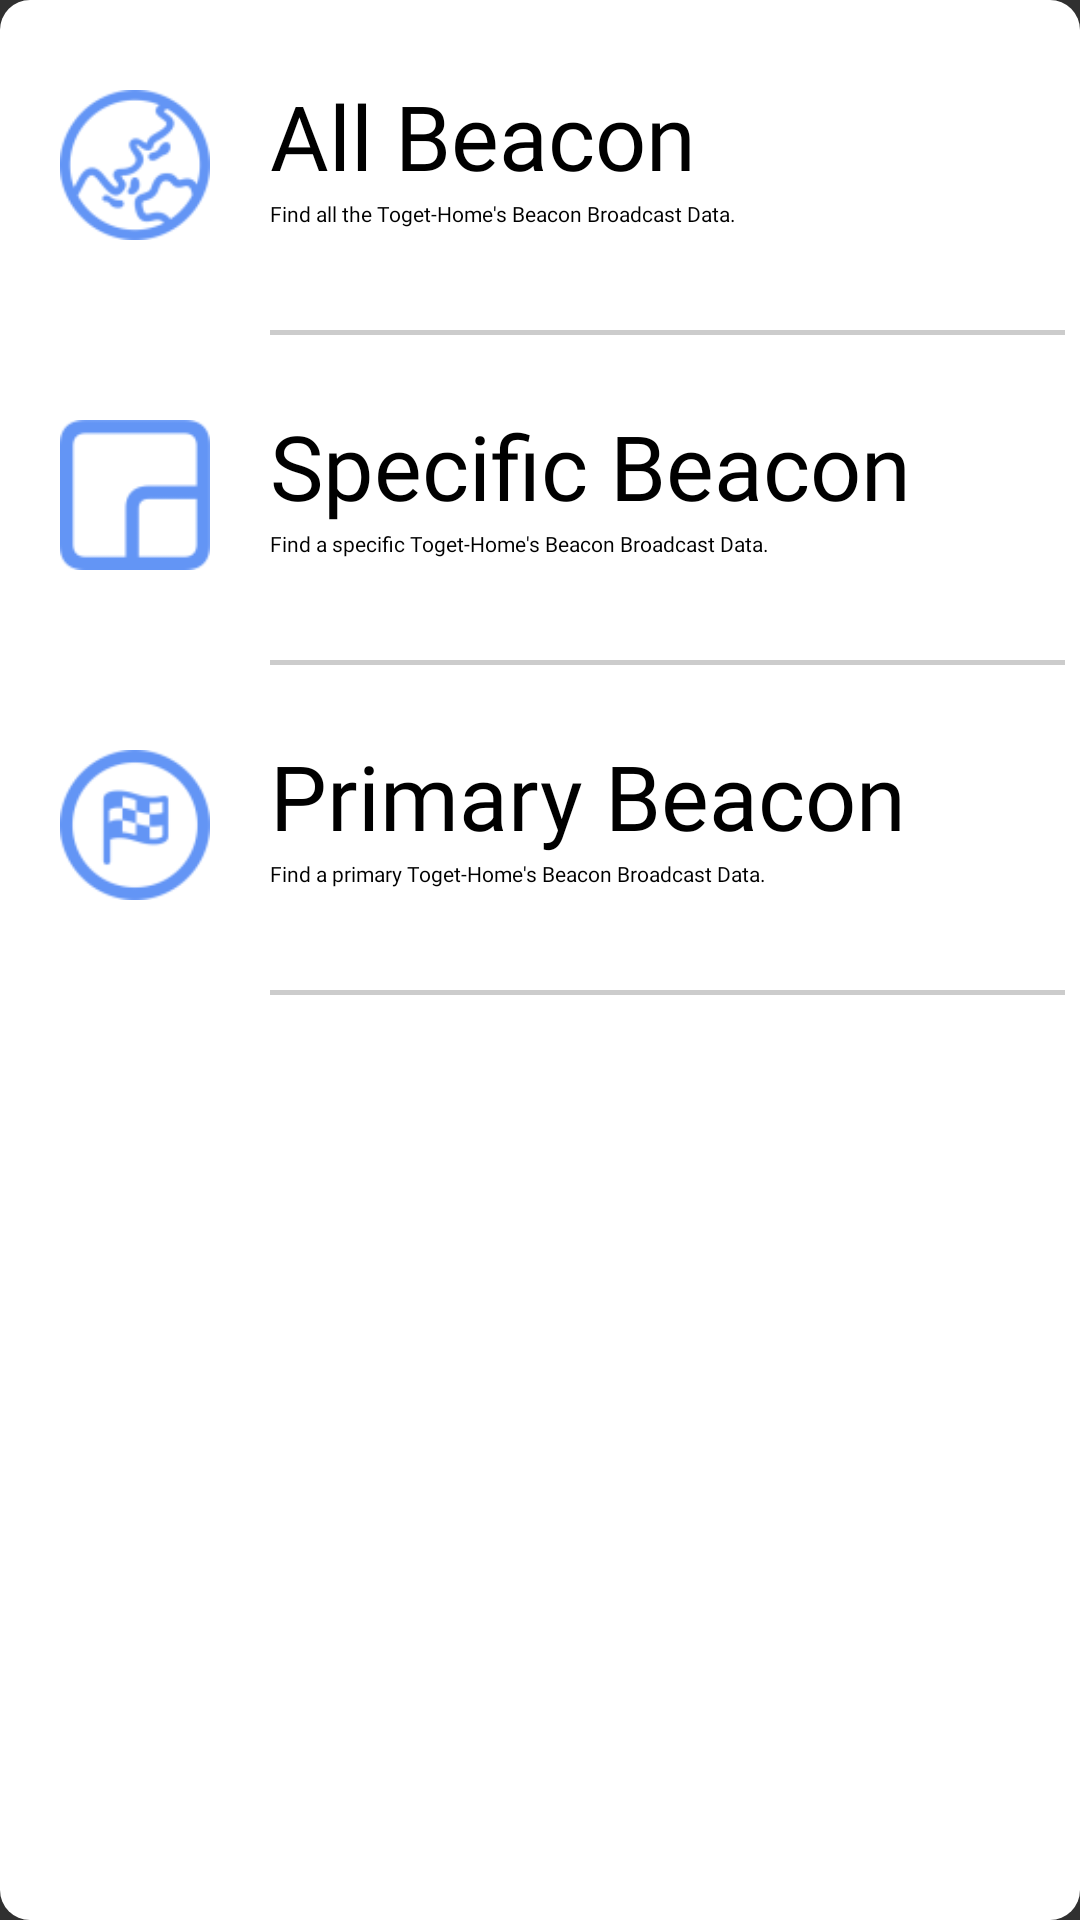

Screen size 1080 x 1920. Icon name, then its center in pixels as (x,y):
flag: (135,825)
global: (135,165)
square: (135,495)
